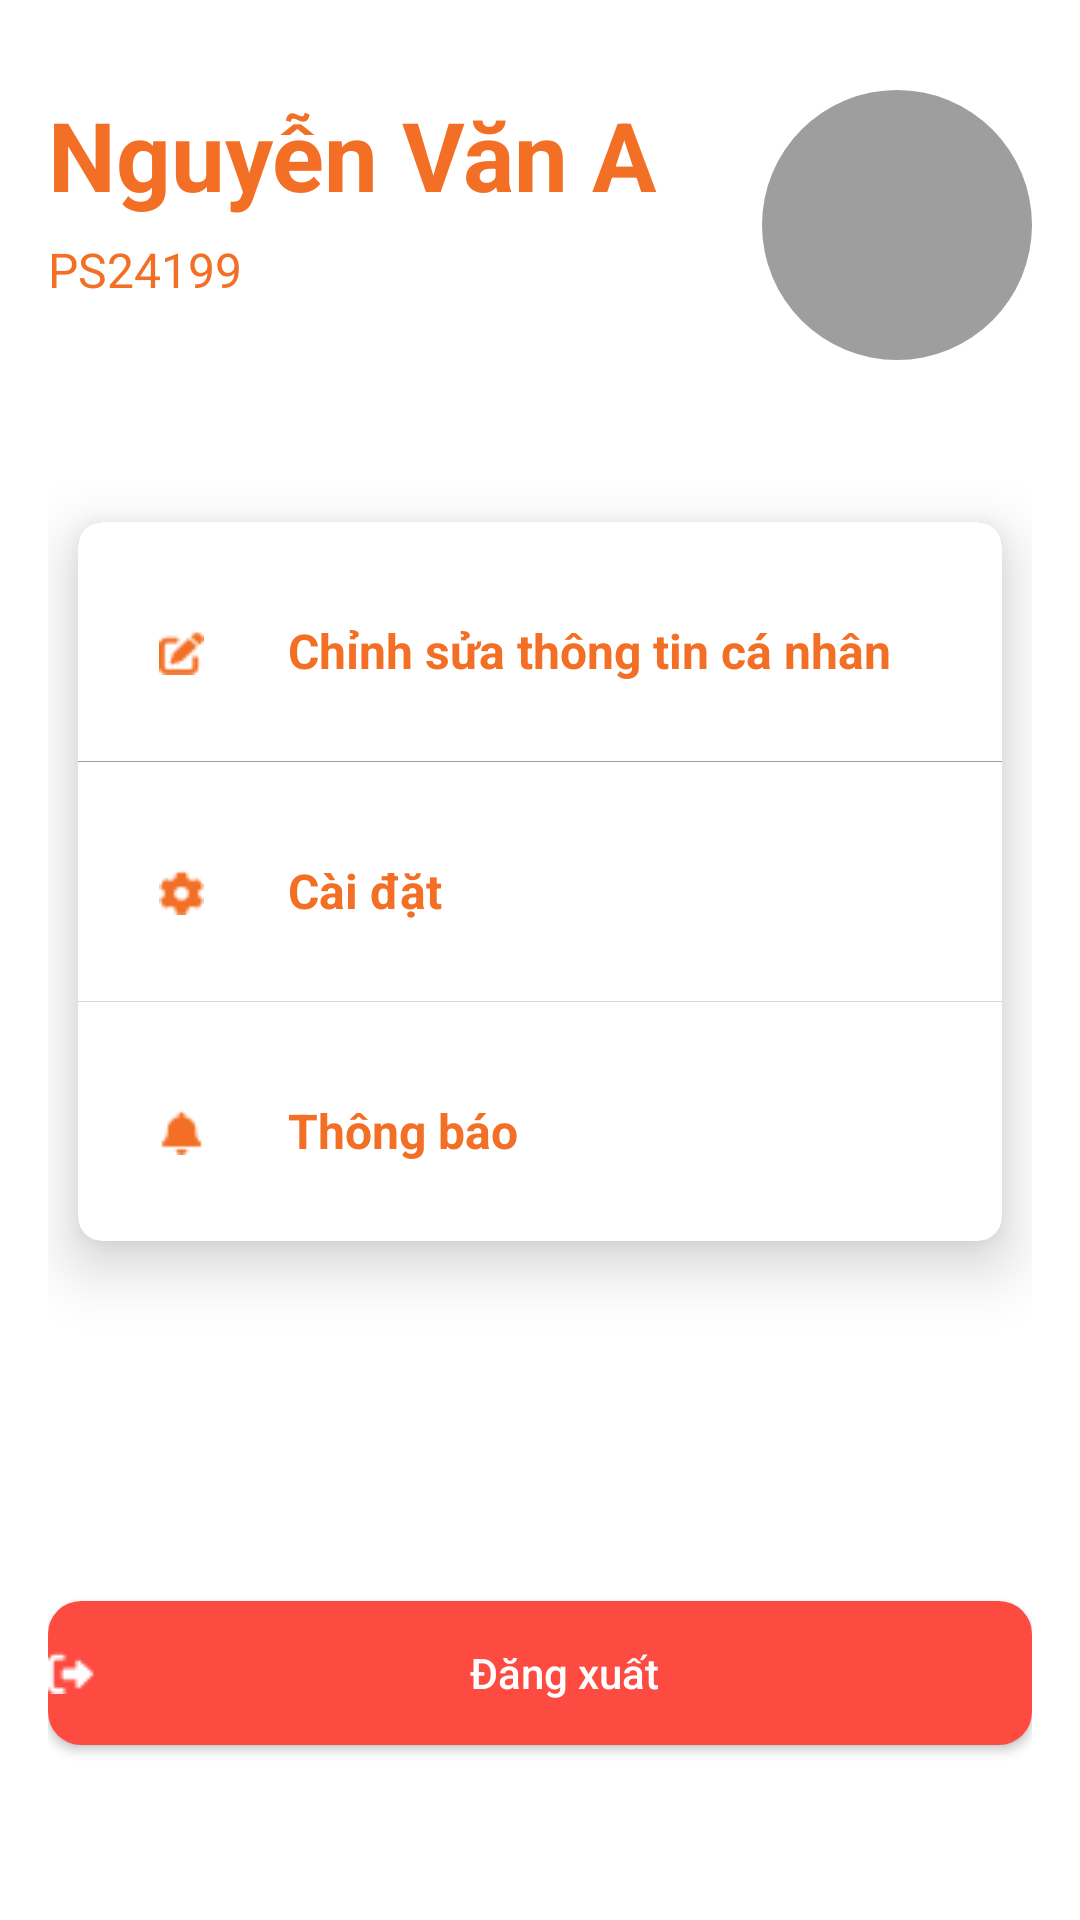

Where icons sit on this 1080*1920 app screen, as detection(x1, y1, x2, y2):
bell: detection(161, 1110, 202, 1155)
edit: detection(159, 632, 204, 675)
setting: detection(159, 870, 204, 915)
